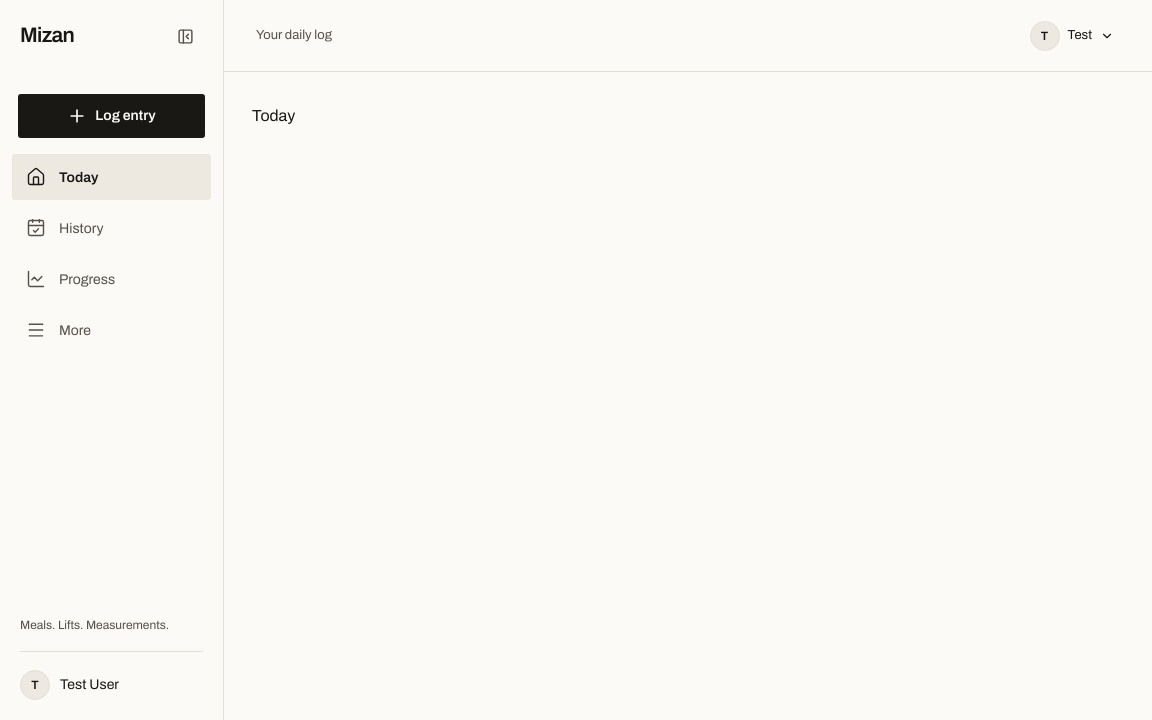
global logging date context › uses the user's current day for an absent, invalid, or future Today date ()
Click the button with aria-label "Log an entry" at (112, 116), box [18,94,205,138]
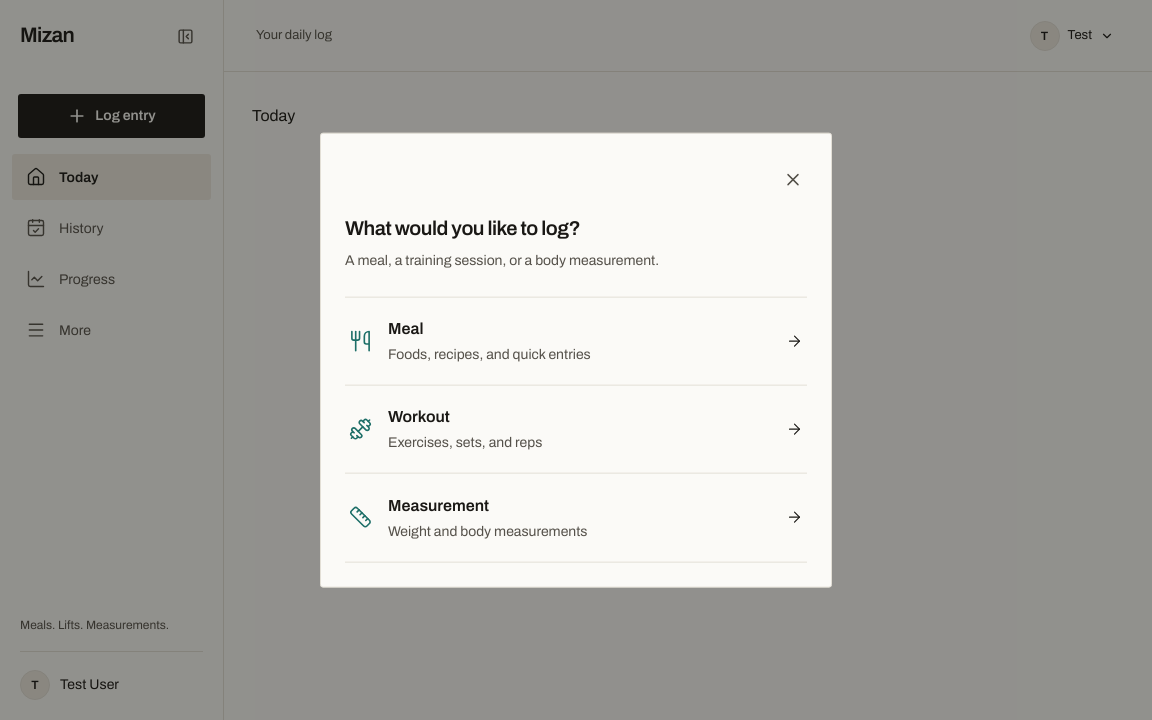
Click the button "Measurement Weight and body measurements" at (439, 505), box [345,473,807,561]
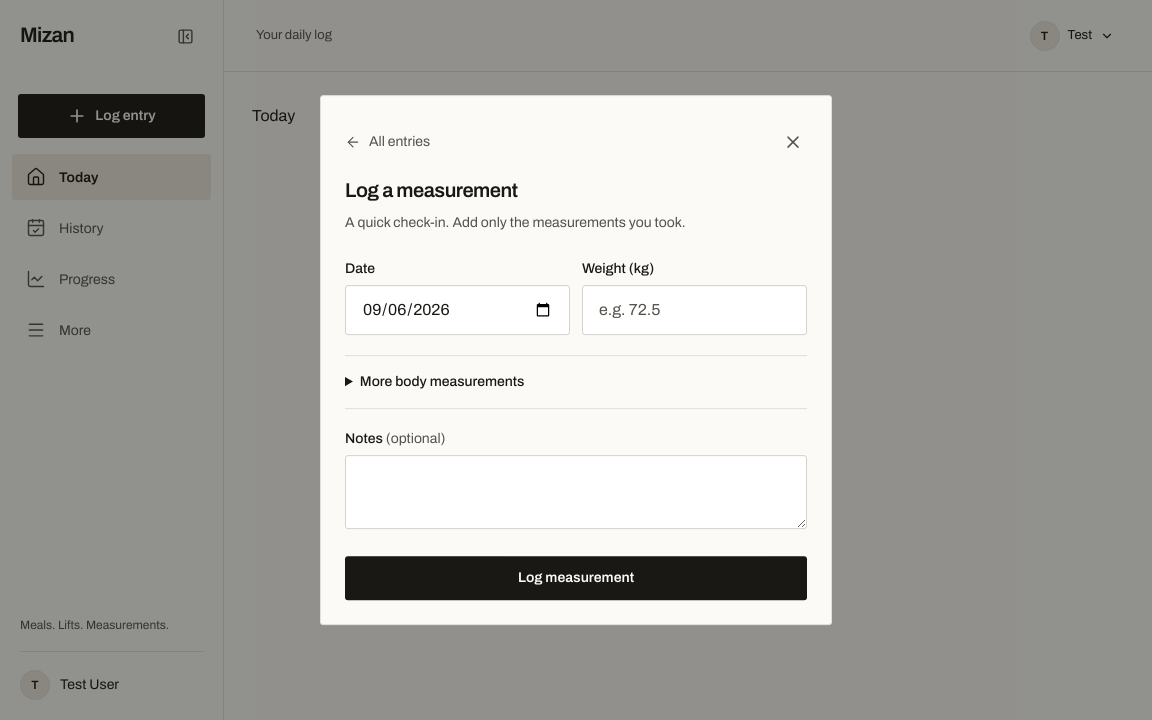
Expected: the date field labelled "Date" holds "2026-09-06", [345,285,570,335]
